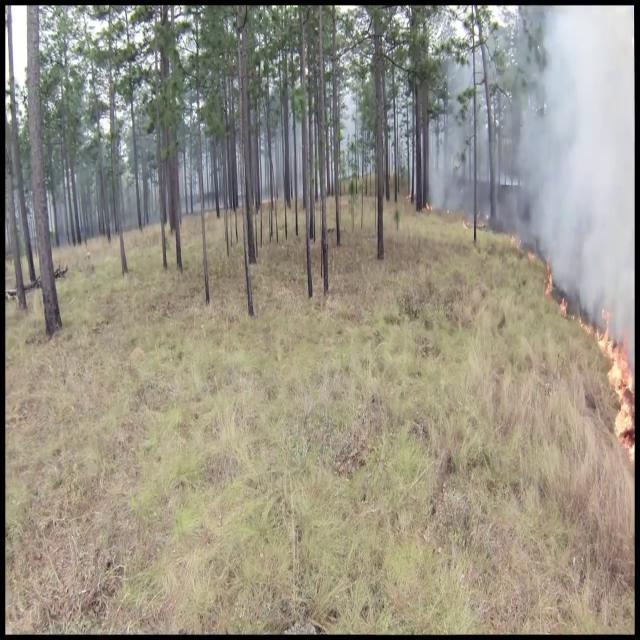Smoke: (510, 4, 634, 330)
